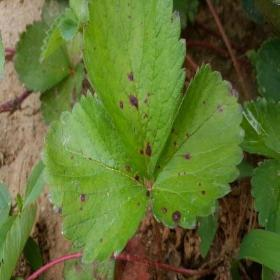Leaf Spot: (81, 0, 187, 182), (40, 88, 149, 264), (148, 60, 246, 230), (12, 20, 72, 94), (40, 62, 86, 126)
